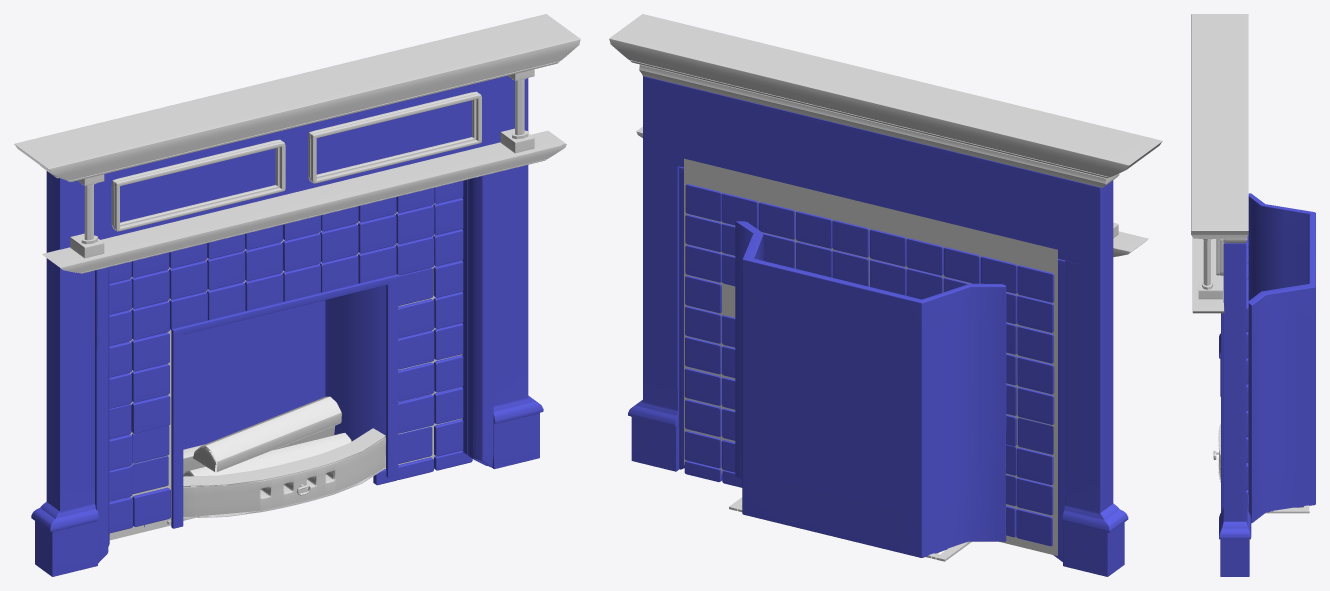
File: camino low.fbx
3 views of the same model, side by side, from view 1: azimuth 30°, elevation 25°; view 2: azimuth 150°, elevation 25°; view 3: azimuth 270°, elevation 25° (orthographic). The views are drawn at different scales.
Parts seen in each view (by area): view 1: base, top, cover, Wood_Log_2, Wood_Log_1, piastrelle; view 2: base, top, piastrelle; view 3: base, top, griglia, cover.
Part boxes in pixels (bbox=[...]): base: bbox=[31, 76, 543, 576]; top: bbox=[14, 14, 580, 273]; cover: bbox=[183, 428, 385, 518]; Wood_Log_2: bbox=[193, 396, 342, 472]; Wood_Log_1: bbox=[183, 433, 351, 476]; piastrelle: bbox=[109, 203, 462, 540]; base: bbox=[628, 76, 1128, 576]; top: bbox=[609, 14, 1162, 257]; piastrelle: bbox=[684, 158, 1057, 555]; base: bbox=[1219, 193, 1315, 576]; top: bbox=[1191, 14, 1248, 313]; griglia: bbox=[1265, 505, 1309, 513]; cover: bbox=[1213, 424, 1220, 482].
Bounding box in the file's own units: 184 × 141 × 44.69.
